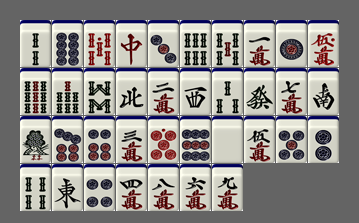0m: (308, 20, 339, 67)
0p: (148, 116, 179, 163)
0s: (84, 20, 115, 67)
1m: (244, 20, 275, 67)
1p: (276, 20, 307, 67)
1s: (20, 116, 51, 163)
1z: (52, 164, 83, 211)
2m: (148, 68, 179, 115)
2p: (308, 116, 339, 163)
2s: (20, 20, 51, 67)
2z: (308, 68, 339, 115)
3m: (116, 116, 147, 163)
3p: (148, 20, 179, 67)
3s: (212, 68, 243, 115)
3z: (180, 68, 211, 115)
4m: (116, 164, 147, 211)
4p: (84, 164, 115, 211)
4s: (20, 164, 51, 211)
4z: (116, 68, 147, 115)
5m: (244, 116, 275, 163)
5p: (276, 116, 307, 163)
5s: (212, 20, 243, 67)
5z: (212, 116, 243, 163)
6m: (180, 164, 211, 211)
6p: (84, 116, 115, 163)
6s: (180, 20, 211, 67)
6z: (244, 68, 275, 115)
7m: (276, 68, 307, 115)
7p: (52, 116, 83, 163)
7s: (52, 68, 83, 115)
7z: (116, 20, 147, 67)
8m: (148, 164, 179, 211)
8p: (52, 20, 83, 67)
8s: (84, 68, 115, 115)
9m: (212, 164, 243, 211)
9p: (180, 116, 211, 163)
9s: (20, 68, 51, 115)
